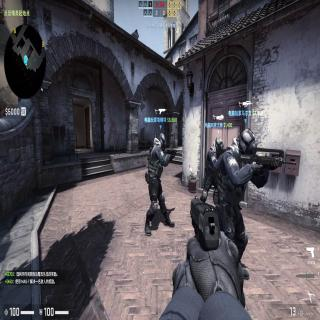CT-Body: (144, 132, 175, 236)
CT-Head: (238, 129, 257, 158), (158, 133, 166, 151), (215, 137, 224, 153)
